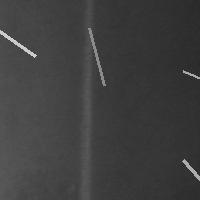scratches: (79, 14, 95, 188), (0, 4, 40, 61), (84, 23, 109, 90), (178, 155, 200, 200), (178, 66, 200, 110)
